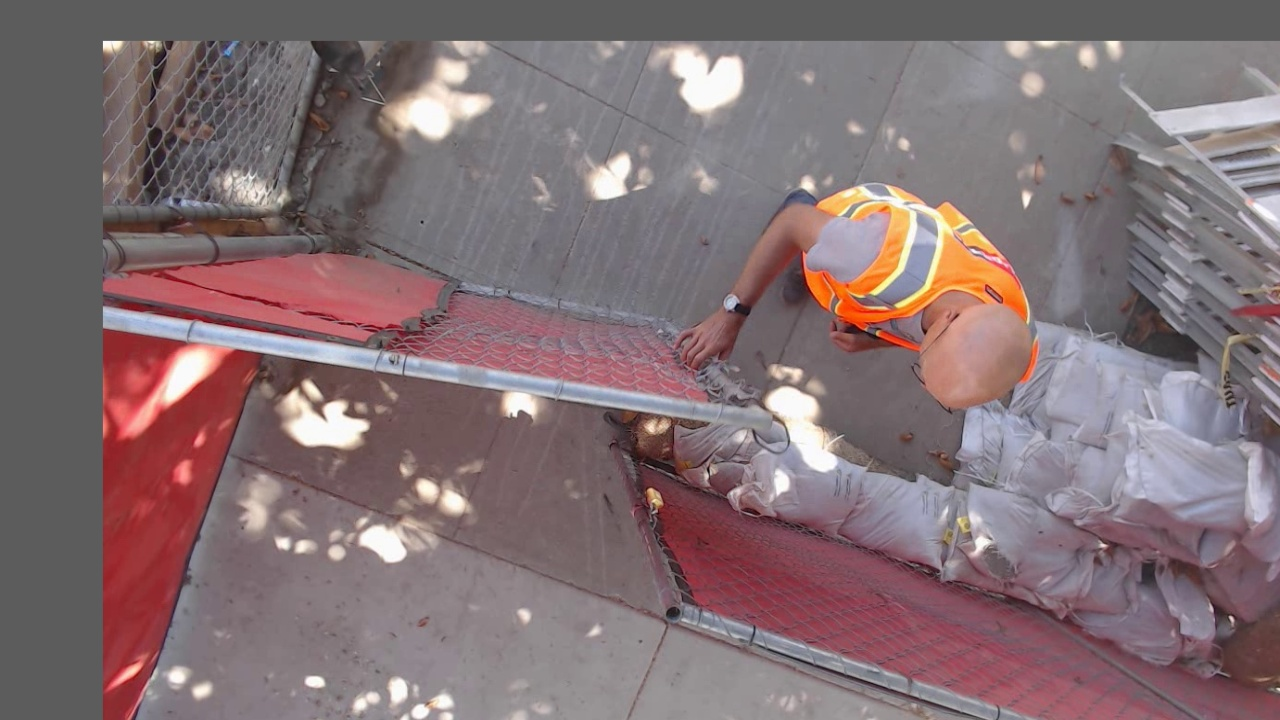person: (772, 177, 1035, 411)
safetyvest: (798, 180, 1036, 384)
